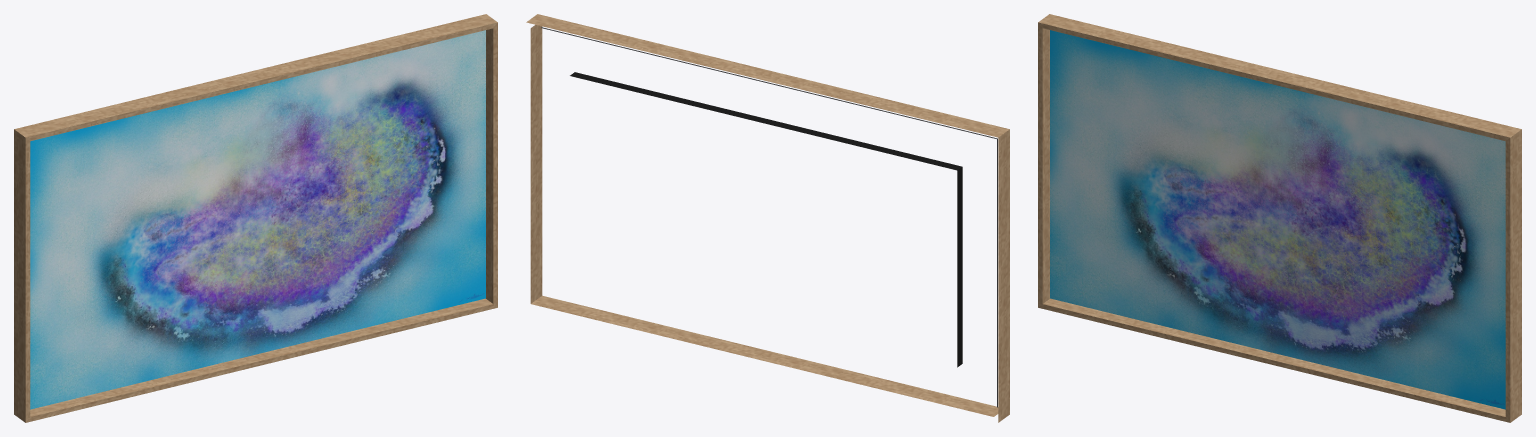
File: hz009_moyen_caisse-chene.glb
The picture shows the model from 3 angles, left to right: view 1: azimuth 30°, elevation 25°; view 2: azimuth 150°, elevation 25°; view 3: azimuth 330°, elevation 25°; orthographic projection.
Parts seen in each view (by area): view 1: hz009_moyen_caisse-chene; view 2: hz009_moyen_caisse-chene; view 3: hz009_moyen_caisse-chene.
Part boxes in pixels (x1,y1,x2,y2): hz009_moyen_caisse-chene: [14, 14, 497, 422]; hz009_moyen_caisse-chene: [526, 14, 1009, 422]; hz009_moyen_caisse-chene: [1038, 14, 1521, 422].
Bounding box in the file's own units: 0.828 × 0.478 × 0.035.
4 materials, 2 textured.
